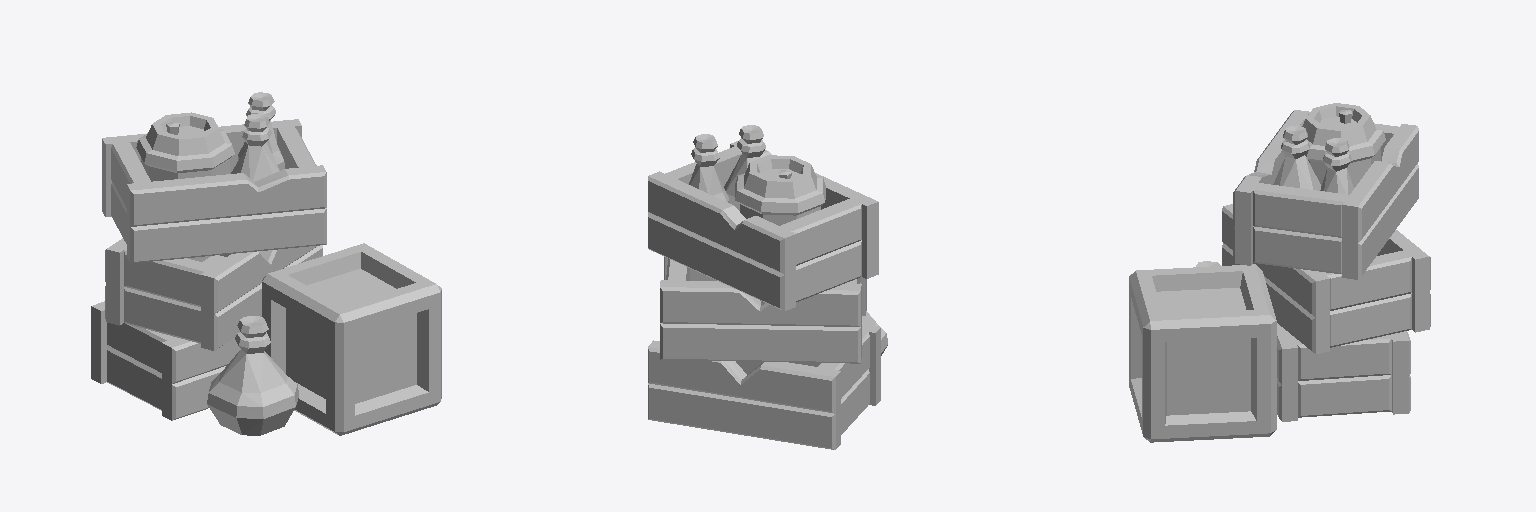
The model's file is crates_stacked.obj.
3 renders of one model, left to right at view 1: azimuth 30°, elevation 25°; view 2: azimuth 150°, elevation 25°; view 3: azimuth 270°, elevation 25°, orthographic.
Visible parts, largest first — view 1: crates_stacked; view 2: crates_stacked; view 3: crates_stacked.
Boxes of the visible parts, x1=… form: crates_stacked: x1=91, y1=92, x2=441, y2=435; crates_stacked: x1=648, y1=125, x2=887, y2=449; crates_stacked: x1=1129, y1=103, x2=1430, y2=442.
Size of the model in its own units: 2.09 by 2.14 by 2.25.